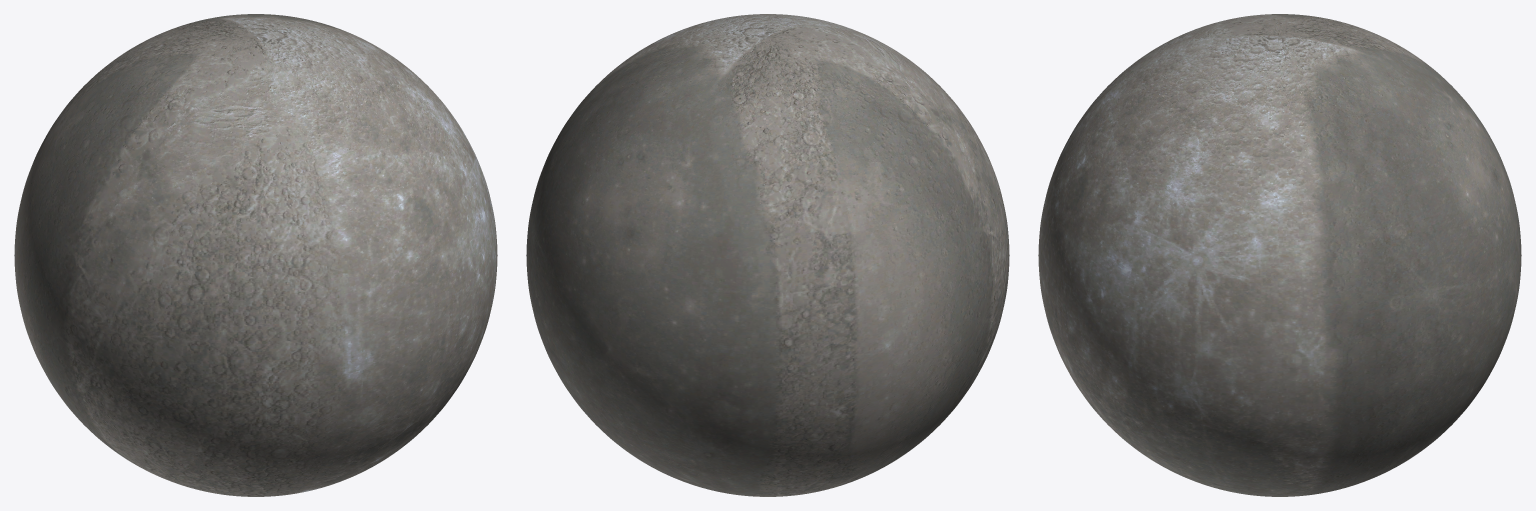
File: mercury.gltf
The picture shows the model from 3 angles, left to right: view 1: azimuth 30°, elevation 25°; view 2: azimuth 150°, elevation 25°; view 3: azimuth 270°, elevation 25°; orthographic projection.
Visible parts, largest first — view 1: node_id32; view 2: node_id32; view 3: node_id32.
Boxes of the visible parts, x1,y1,x2,y2 form: node_id32: [14, 14, 497, 496]; node_id32: [526, 14, 1009, 496]; node_id32: [1038, 14, 1521, 496].
Size of the model in its own units: 0.512 by 0.512 by 0.512.
1 material, 1 textured.
